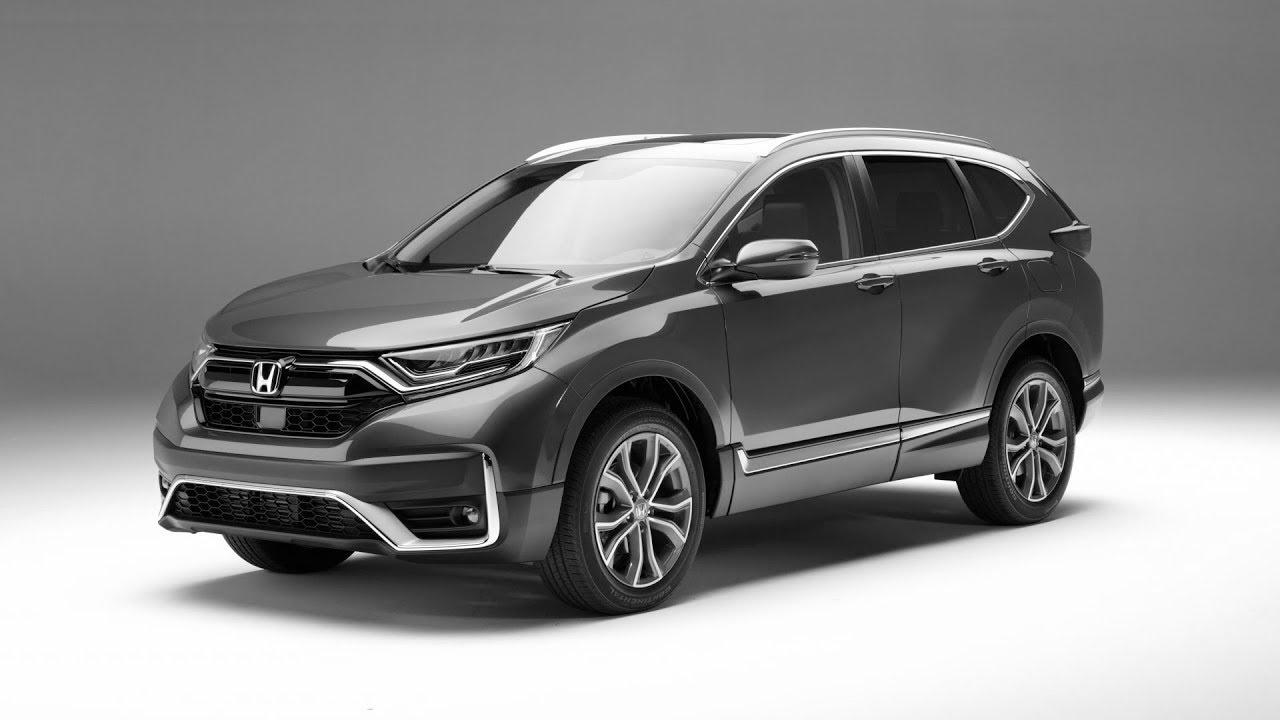Car hood: (196, 246, 657, 357)
Fender - -F-L-: (535, 235, 742, 536)
Fender - -R-L-: (992, 150, 1074, 346)
Front bumper: (134, 363, 590, 569)
Headlight - -L-: (356, 314, 583, 409)
Headlight - -R-: (170, 312, 226, 389)
Passenger-s door - -F-L-: (712, 146, 904, 480)
Passenger-s door - -R-L-: (859, 142, 1042, 446)
Rear bumper: (1070, 250, 1122, 431)
Rear light - -L-: (1044, 210, 1119, 277)
Side bumper - -L-: (700, 401, 1006, 524)
Side mirror - -L-: (712, 230, 832, 306)
